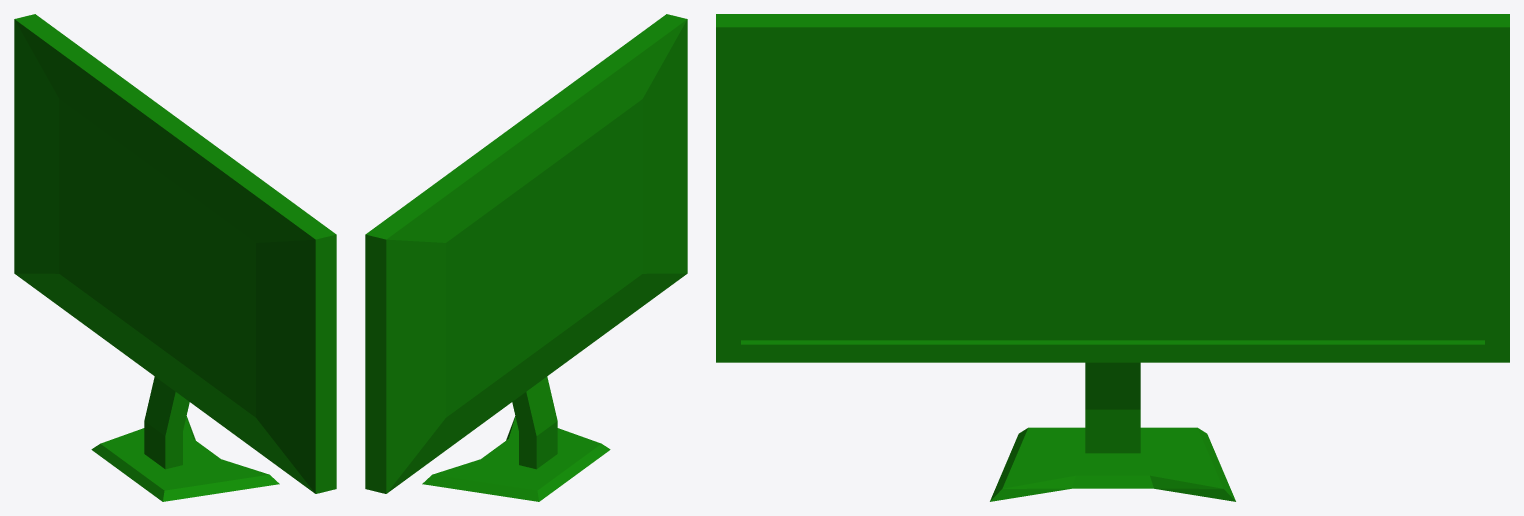
The model's file is monitor_a.fbx.
3 views of the same model, side by side, from view 1: azimuth 30°, elevation 25°; view 2: azimuth 150°, elevation 25°; view 3: azimuth 270°, elevation 25° (orthographic). The views are drawn at different scales.
Parts seen in each view (by area): view 1: monitor_a; view 2: monitor_a; view 3: monitor_a.
Boxes of the visible parts, x1,y1,x2,y2 form: monitor_a: (14, 14, 336, 501); monitor_a: (365, 14, 687, 501); monitor_a: (716, 14, 1509, 501).
Size of the model in its own units: 0.2866 by 0.8697 by 1.41.
